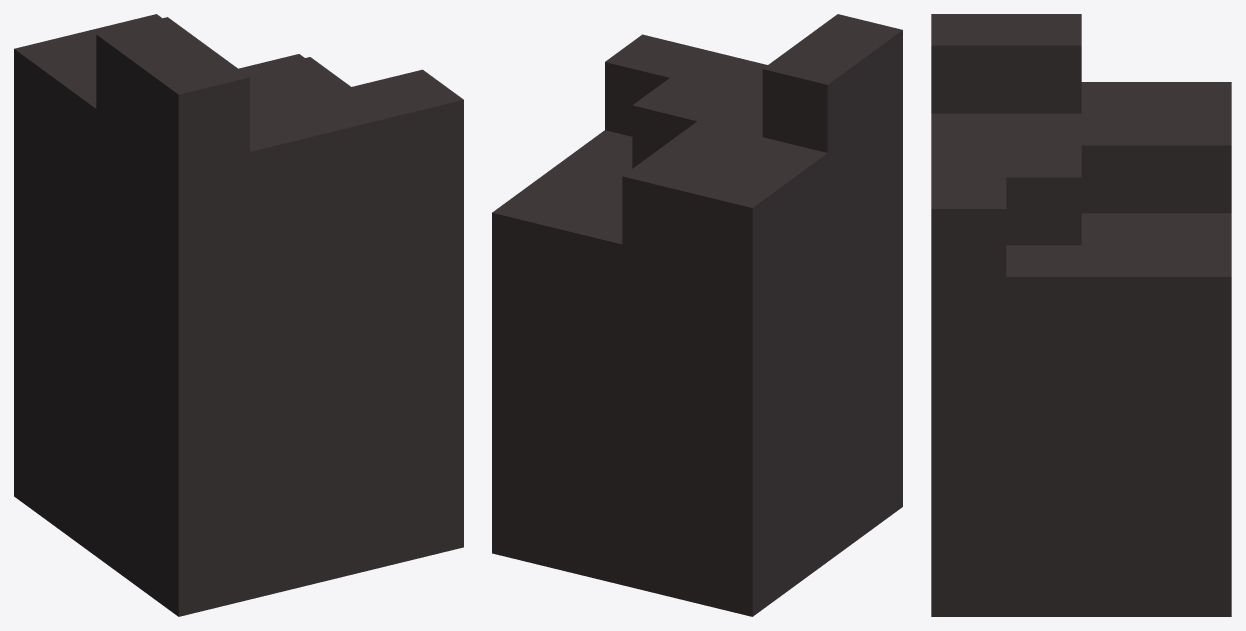
The model's file is panda__leg_fr.glb.
3 views of the same model, side by side, from view 1: azimuth 30°, elevation 25°; view 2: azimuth 150°, elevation 25°; view 3: azimuth 270°, elevation 25° (orthographic). The views are drawn at different scales.
Parts seen in each view (by area): view 1: panda__leg_fr; view 2: panda__leg_fr; view 3: panda__leg_fr.
Boxes of the visible parts, x1,y1,x2,y2 form: panda__leg_fr: (14,14,463,616); panda__leg_fr: (492,14,902,616); panda__leg_fr: (931,14,1231,616).
Bounding box in the file's own units: 0.4 × 0.7 × 0.4.
1 material, 1 textured.
